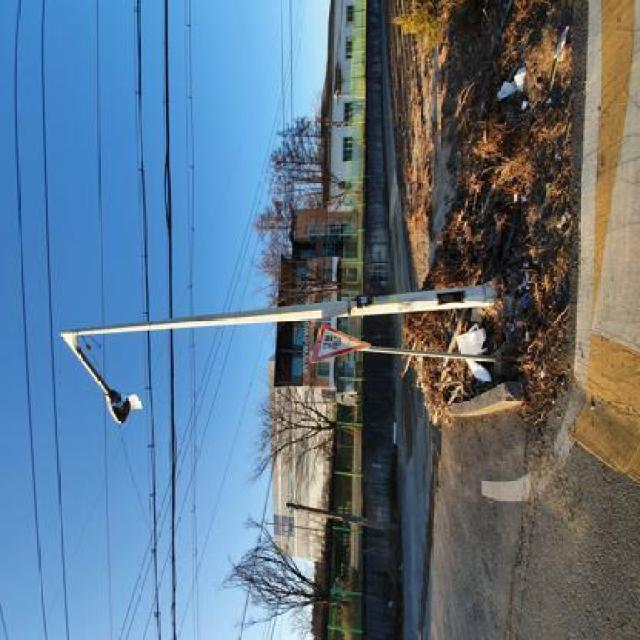pole: (52, 279, 514, 343)
